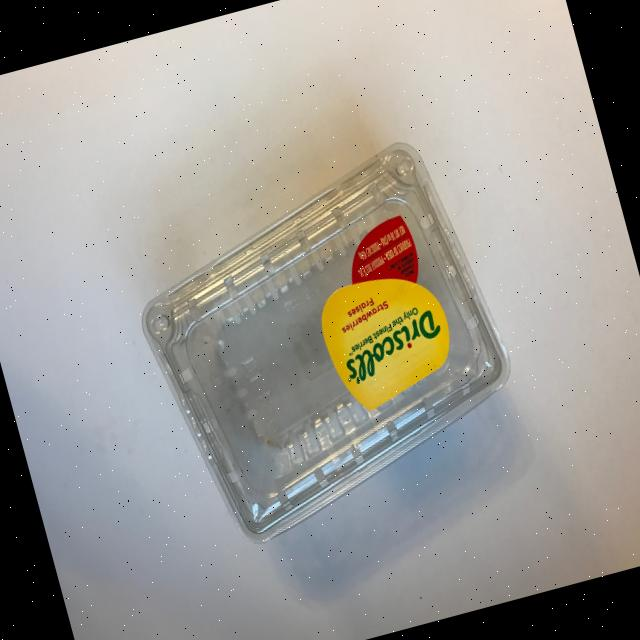plastic: (112, 127, 539, 559)
